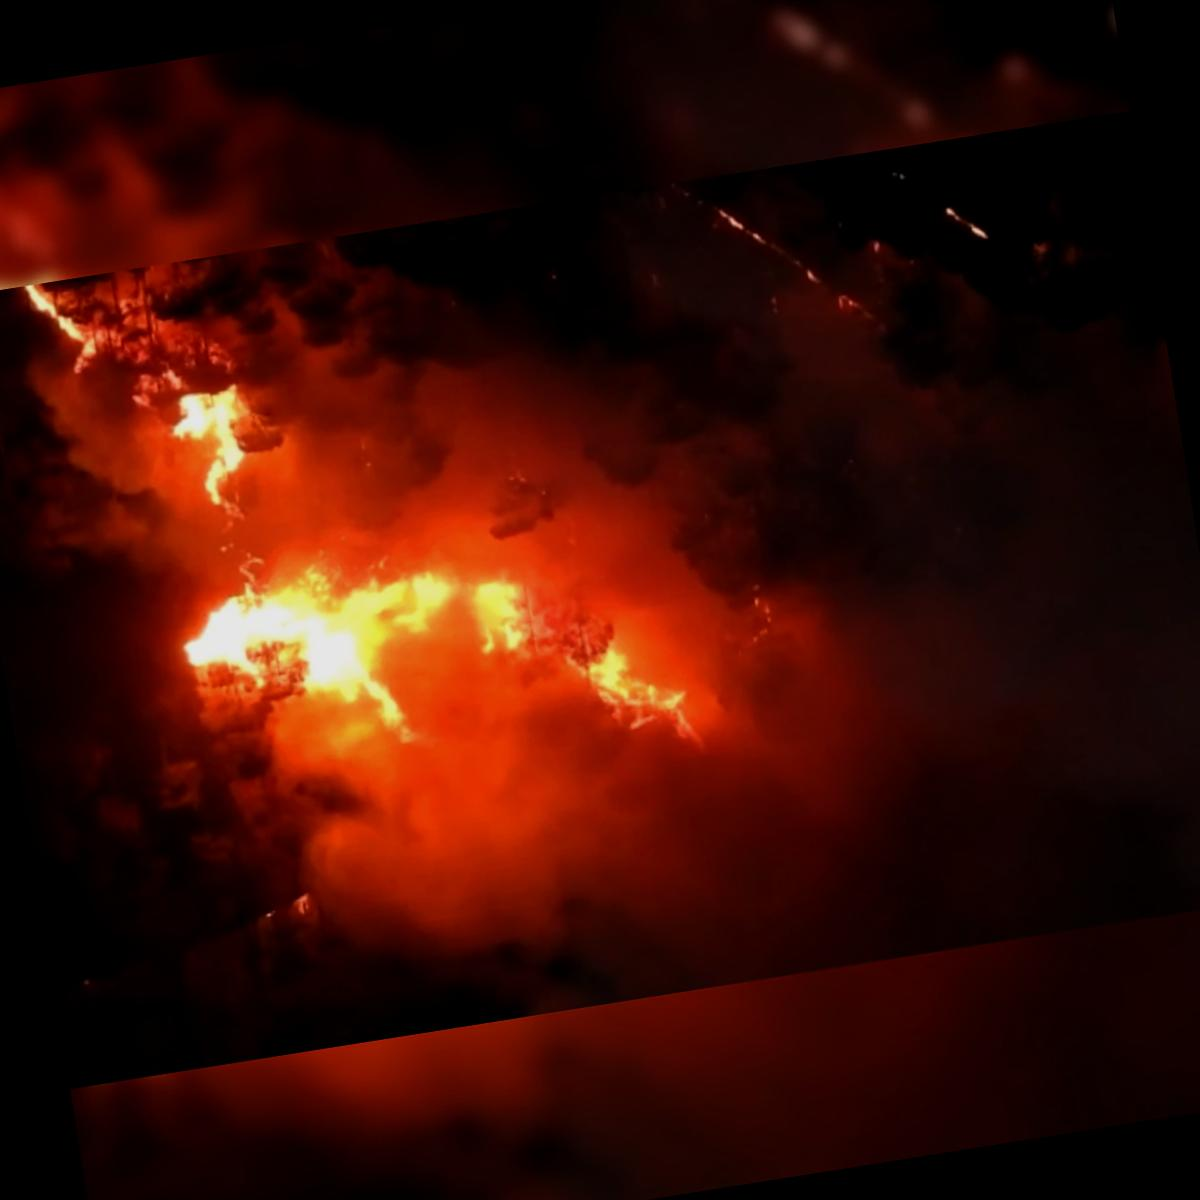fire: (151, 549, 462, 744), (470, 560, 702, 759), (173, 373, 269, 509), (19, 267, 108, 391)
